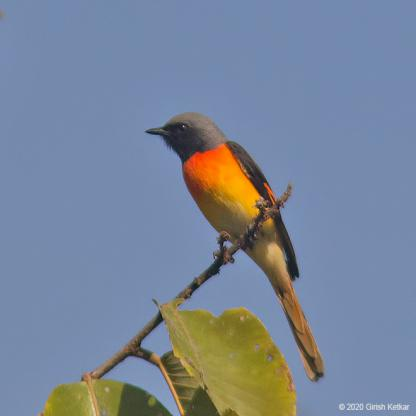Burung: (145, 111, 325, 383)
